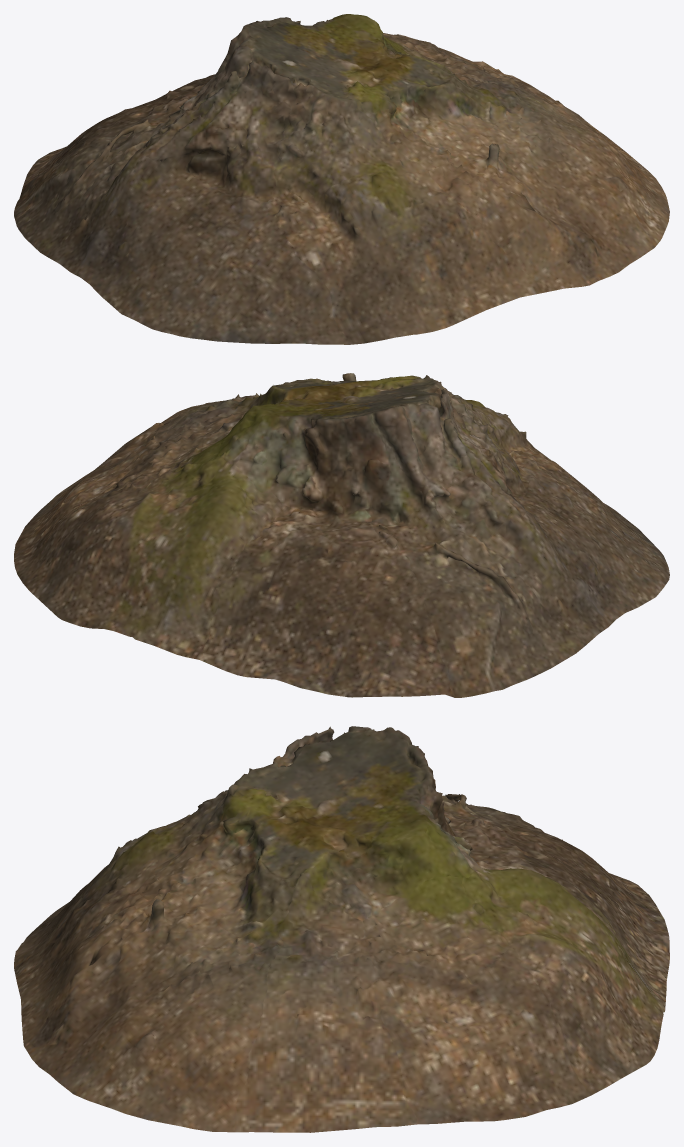
File: tree_stump_02.2cbf94ddcf.glb
The picture shows the model from 3 angles, top to bottom: view 1: azimuth 30°, elevation 25°; view 2: azimuth 150°, elevation 25°; view 3: azimuth 270°, elevation 25°; orthographic projection. The views are drawn at different scales.
Parts seen in each view (by area): view 1: tree_stump_02; view 2: tree_stump_02; view 3: tree_stump_02.
Part boxes in pixels (x1,y1,x2,y2): tree_stump_02: [14, 14, 669, 344]; tree_stump_02: [14, 373, 669, 697]; tree_stump_02: [14, 726, 669, 1132].
Bounding box in the file's own units: 1.52 × 0.522 × 1.39.
1 material, 1 textured.
